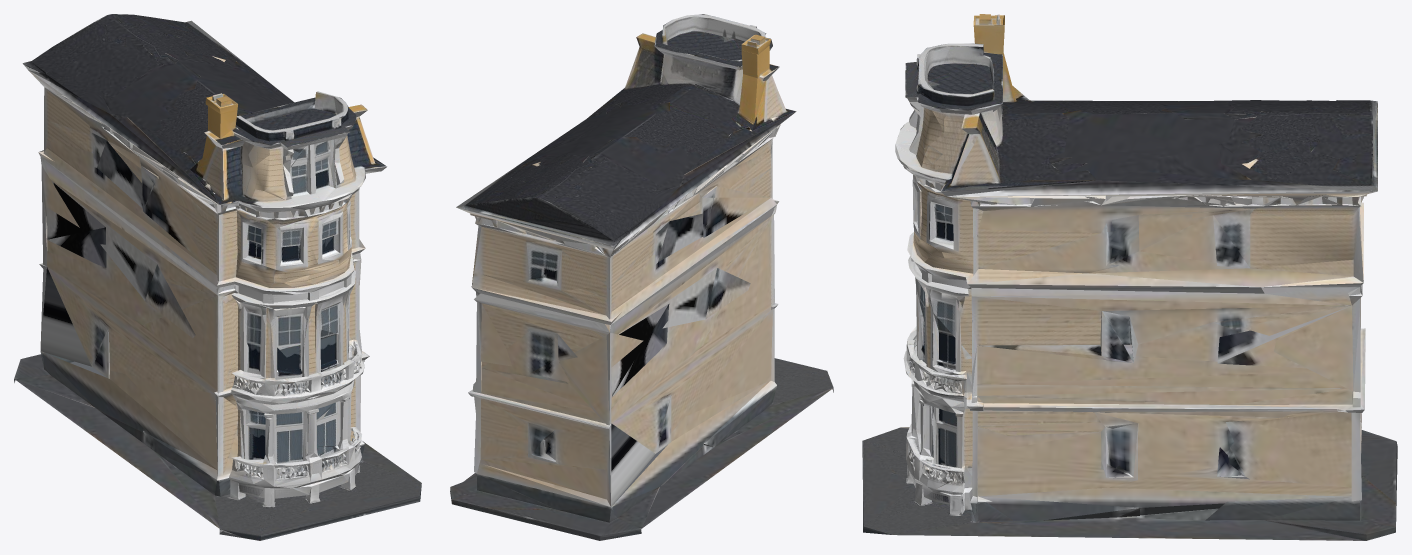
Rendered from teleopBldg_victorian.39183fbd.glb.
3 views of the same model, side by side, from view 1: azimuth 30°, elevation 25°; view 2: azimuth 150°, elevation 25°; view 3: azimuth 270°, elevation 25° (orthographic). The views are drawn at different scales.
Visible parts, largest first — view 1: output_unwrapped; view 2: output_unwrapped; view 3: output_unwrapped.
Boxes of the visible parts, x1,y1,x2,y2 form: output_unwrapped: (14, 14, 421, 540); output_unwrapped: (450, 14, 833, 540); output_unwrapped: (862, 14, 1397, 540).
Bounding box in the file's own units: 0.9121 × 1.74 × 1.92.
1 material, 1 textured.
